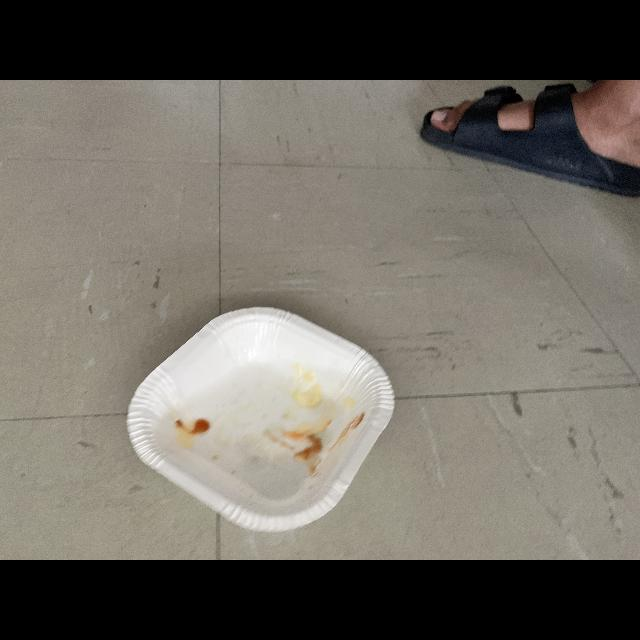cardboard_bowl: (123, 300, 399, 532)
